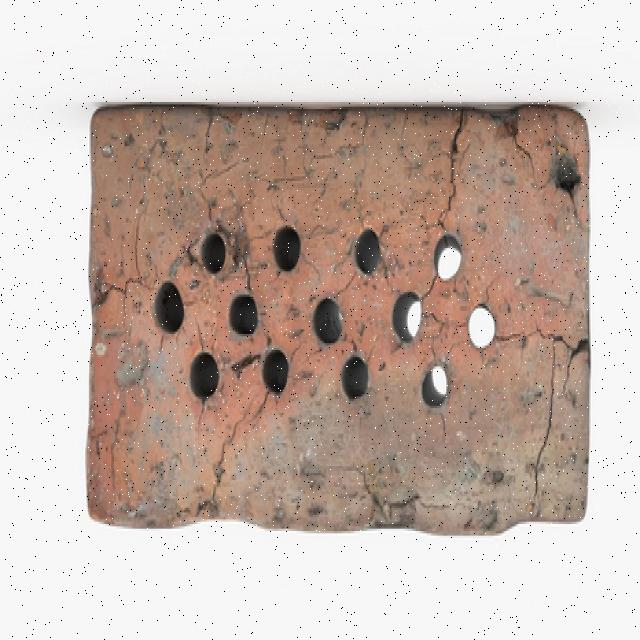bricks_ruin: (83, 103, 591, 536)
